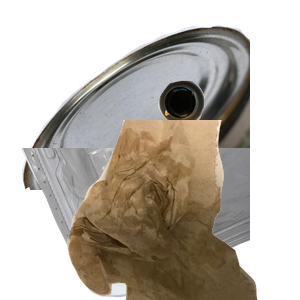glass: (156, 78, 300, 197)
metal: (19, 22, 259, 202)
plastic: (19, 148, 259, 300)
trash: (65, 120, 300, 300)
